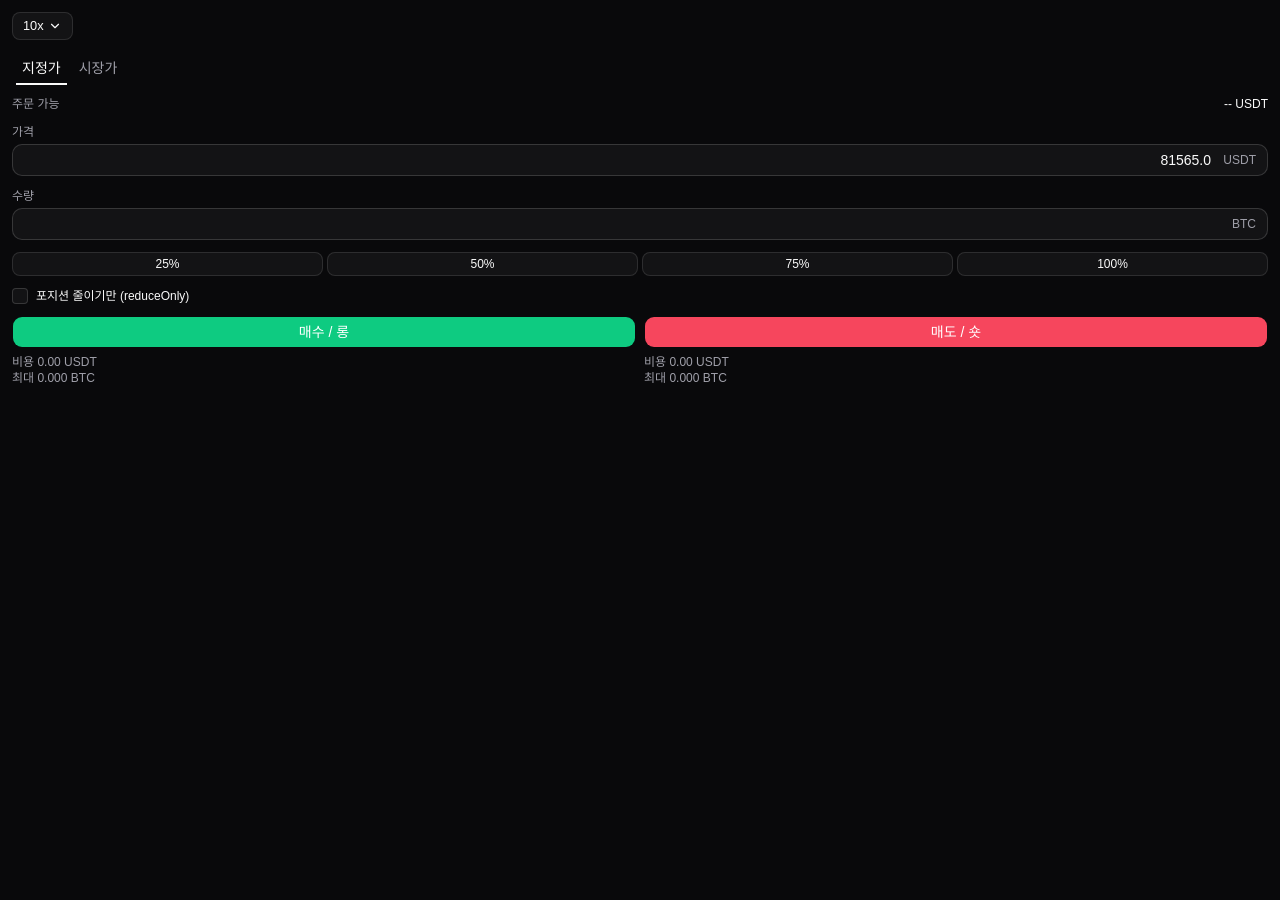
OrderForm › 보내기 전 확인에 걸리면 보내지 않고 이유를 알린다
Expected: the field showing "81565.0" is shown, [12, 144, 1268, 176]
Type "0.001" into the field labelled "수량" at (640,224), box [12, 208, 1268, 240]
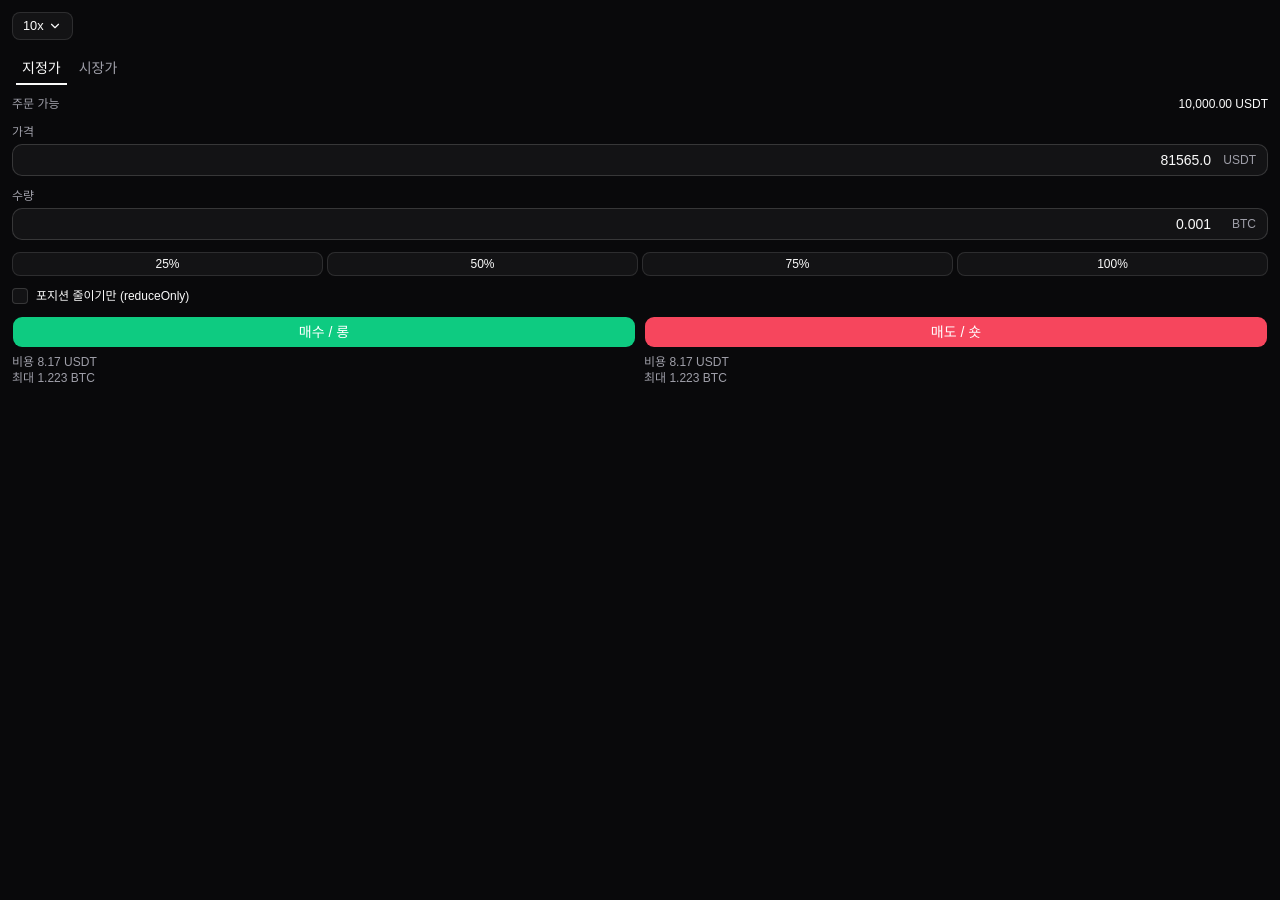
Click the button "매수 / 롱" at (324,332), box [12, 316, 636, 348]
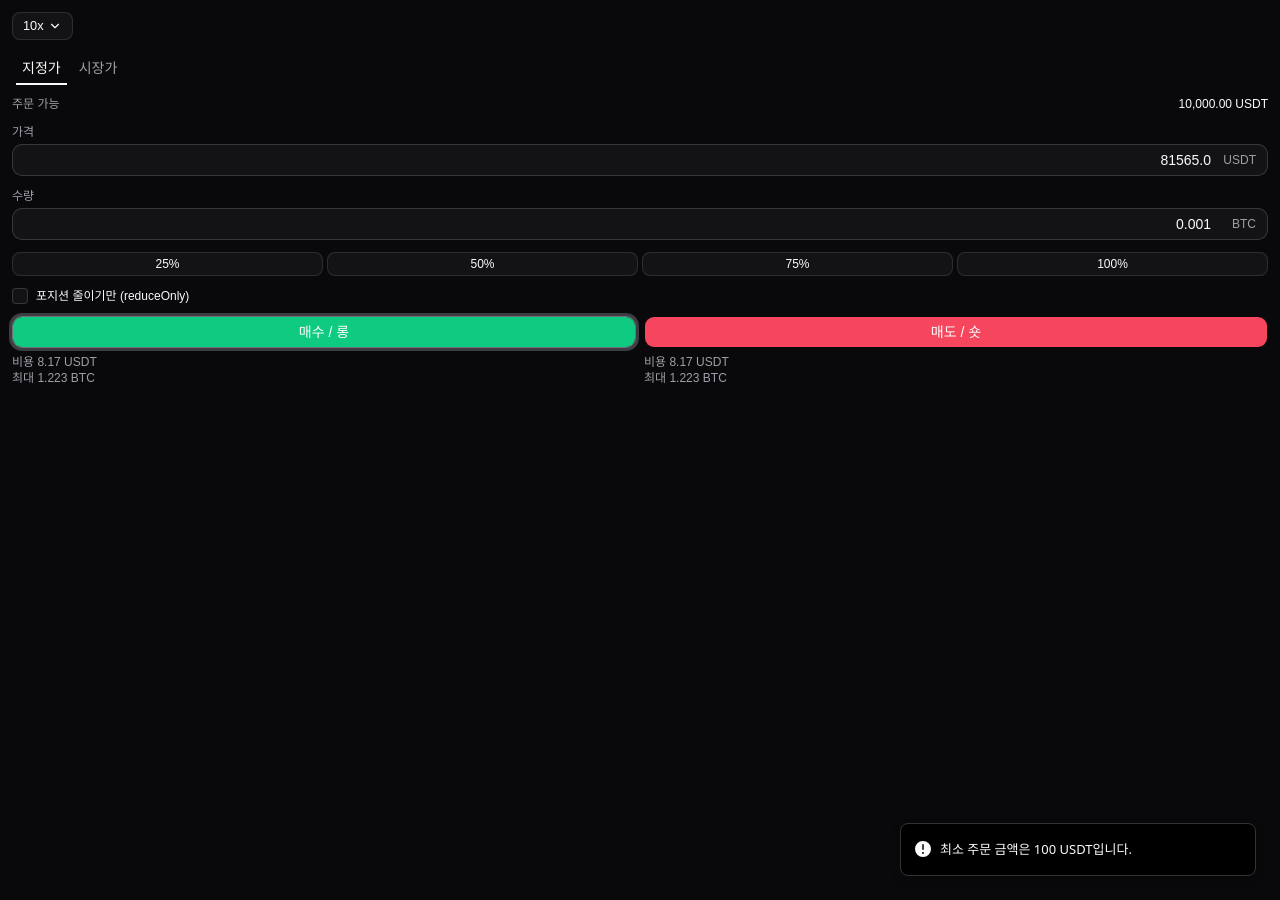
Now the text "최소 주문 금액은 100 USDT입니다." is shown, box [940, 840, 1132, 859]
